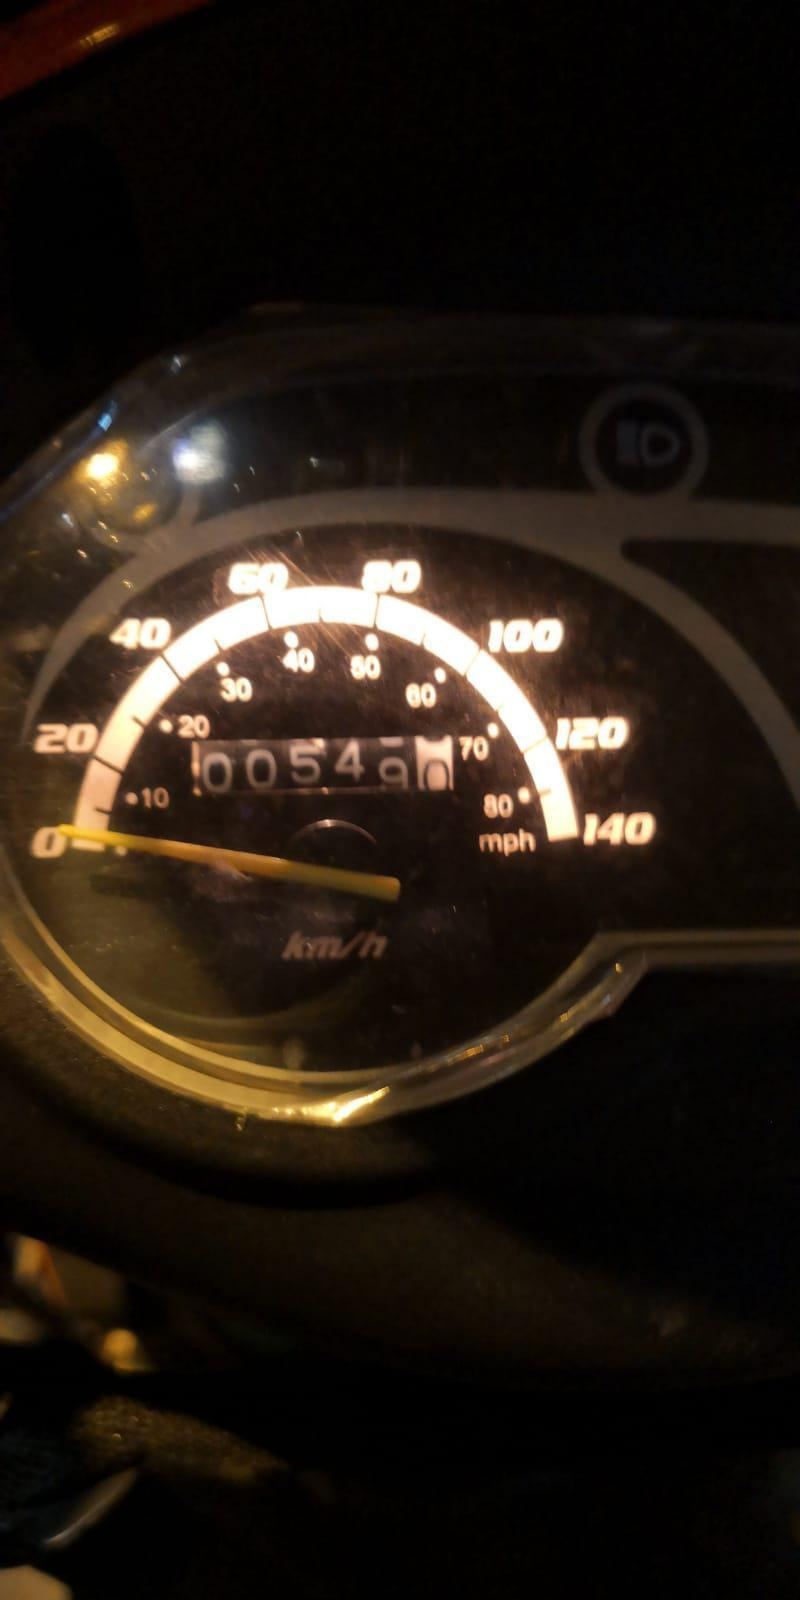0: (242, 746, 280, 792), (200, 750, 236, 795), (422, 757, 451, 797)
4: (333, 739, 366, 782)
5: (286, 744, 324, 786)
9: (377, 754, 409, 799)
odometer: (187, 729, 459, 801)
